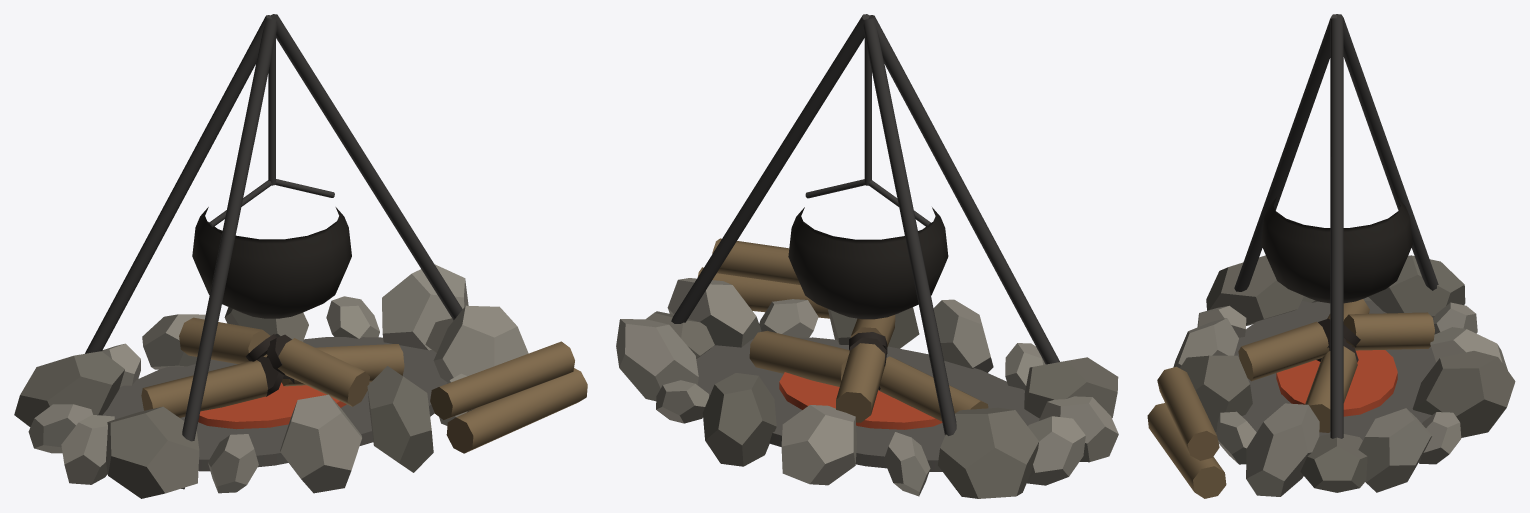
Rendered from vatra.glb.
3 renders of one model, left to right at view 1: azimuth 30°, elevation 25°; view 2: azimuth 150°, elevation 25°; view 3: azimuth 270°, elevation 25°, orthographic. The views are drawn at different scales.
Visible parts, largest first — view 1: stone (×13), leg (×3), log (×4), kazan, spare (×2), ash, embers, chain; view 2: stone (×15), leg (×3), kazan, log (×4), ash, spare (×2), embers, chain; view 3: stone (×13), leg (×3), kazan, log (×3), ash, spare (×2), embers.
Part boxes in pixels (<box>): stone (×13): <box>14,264,528,498</box>; leg (×3): <box>85,14,462,489</box>; log (×4): <box>141,317,404,417</box>; kazan: <box>192,207,351,318</box>; spare (×2): <box>430,341,587,453</box>; ash: <box>102,337,447,471</box>; embers: <box>198,382,346,429</box>; chain: <box>268,36,275,185</box>; stone (×15): <box>616,278,1118,498</box>; leg (×3): <box>671,14,1059,435</box>; kazan: <box>788,207,948,319</box>; log (×4): <box>749,315,988,422</box>; ash: <box>696,337,1039,471</box>; spare (×2): <box>698,238,829,318</box>; embers: <box>779,372,942,429</box>; chain: <box>864,36,871,185</box>; stone (×13): <box>1173,255,1515,496</box>; leg (×3): <box>1234,14,1438,438</box>; kazan: <box>1261,197,1412,303</box>; log (×3): <box>1238,312,1434,432</box>; ash: <box>1234,300,1436,440</box>; spare (×2): <box>1147,366,1226,498</box>; embers: <box>1276,350,1397,416</box>.
Size of the model in its own units: 1.69 by 1.43 by 1.21.
